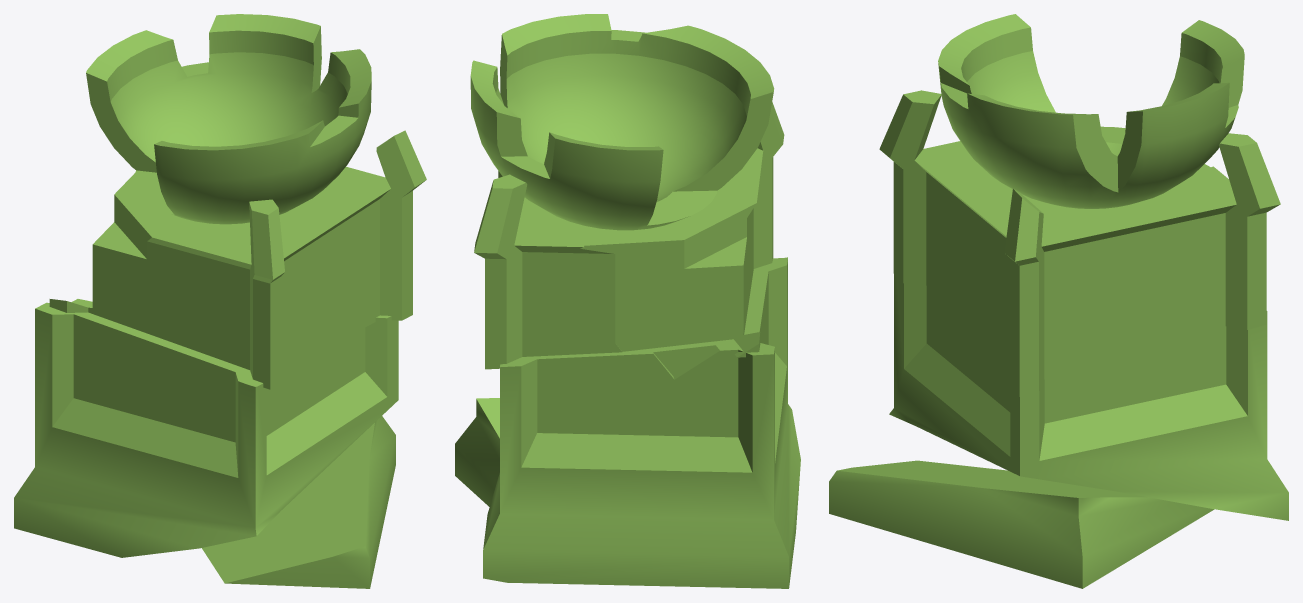
The model's file is Debris1.obj.
3 views of the same model, side by side, from view 1: azimuth 30°, elevation 25°; view 2: azimuth 150°, elevation 25°; view 3: azimuth 270°, elevation 25° (orthographic). The views are drawn at different scales.
Parts seen in each view (by area): view 1: Debris1; view 2: Debris1; view 3: Debris1.
Part boxes in pixels (left/top/right/bottom): Debris1: left=14, top=14, right=426, bottom=588; Debris1: left=455, top=14, right=800, bottom=588; Debris1: left=829, top=14, right=1288, bottom=588.
Bounding box in the file's own units: 6.26 × 7.33 × 6.73.
